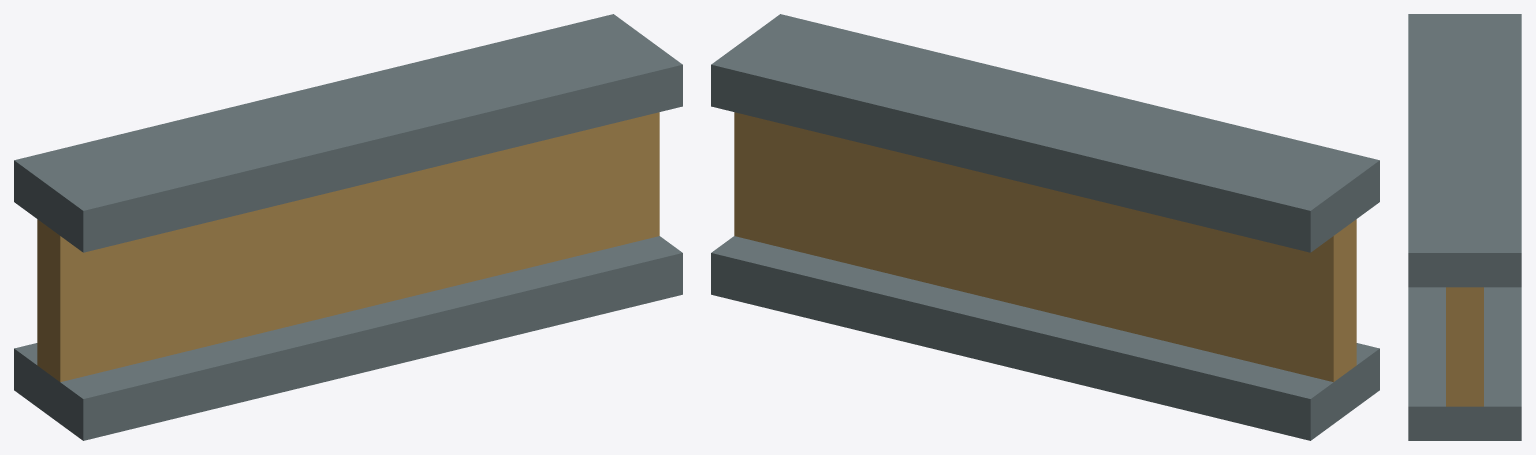
The model's file is construction-15.glb.
3 views of the same model, side by side, from view 1: azimuth 30°, elevation 25°; view 2: azimuth 150°, elevation 25°; view 3: azimuth 270°, elevation 25° (orthographic). The views are drawn at different scales.
Visible parts, largest first — view 1: Steel beam; view 2: Steel beam; view 3: Steel beam.
Boxes of the visible parts, <box> form: Steel beam: <box>14,14,682,440</box>; Steel beam: <box>711,14,1379,440</box>; Steel beam: <box>1408,14,1521,440</box>.
Bounding box in the file's own units: 2.4 × 0.88 × 0.48.
